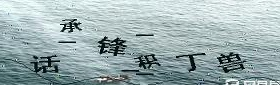chinese: (175, 47, 208, 78), (31, 51, 63, 81), (98, 34, 127, 61), (219, 52, 247, 75), (61, 15, 84, 37), (134, 53, 161, 71)
